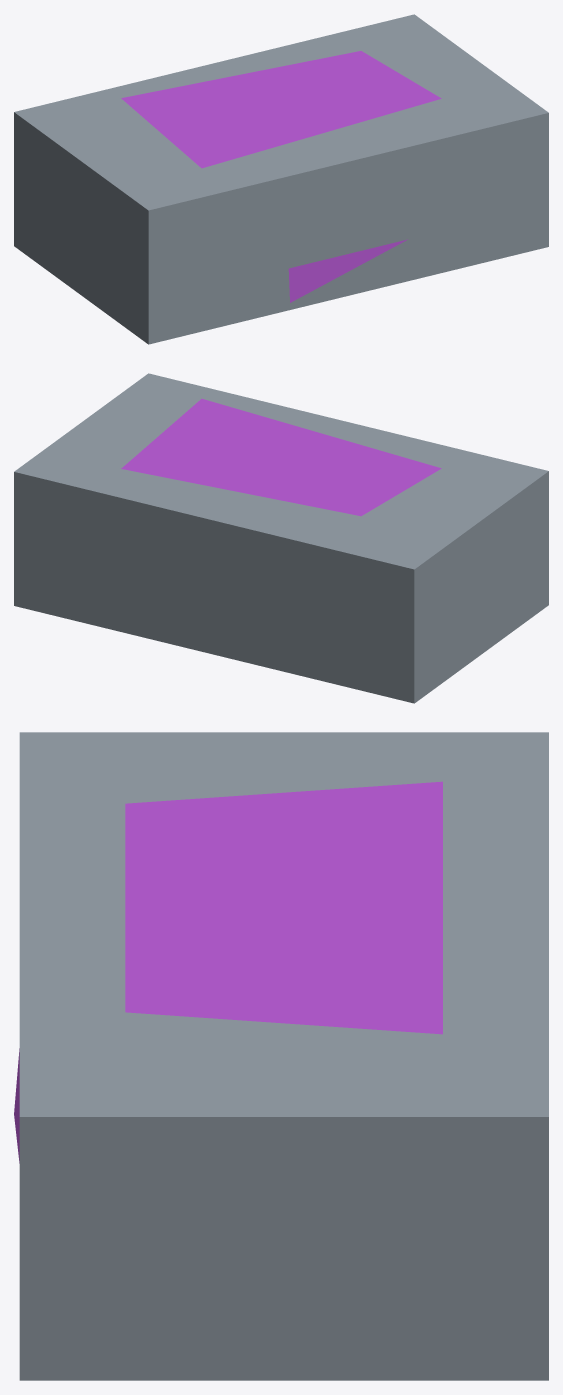
The model's file is CH_PauseProjector_LOD1.glb.
The picture shows the model from 3 angles, top to bottom: view 1: azimuth 30°, elevation 25°; view 2: azimuth 150°, elevation 25°; view 3: azimuth 270°, elevation 25°; orthographic projection. The views are drawn at different scales.
Parts seen in each view (by area): view 1: EntranceGate; view 2: EntranceGate; view 3: EntranceGate.
Boxes of the visible parts, <box> form: EntranceGate: <box>14,14,548,344</box>; EntranceGate: <box>14,373,548,703</box>; EntranceGate: <box>14,732,548,1380</box>.
Size of the model in its own units: 550 by 194 by 323.
